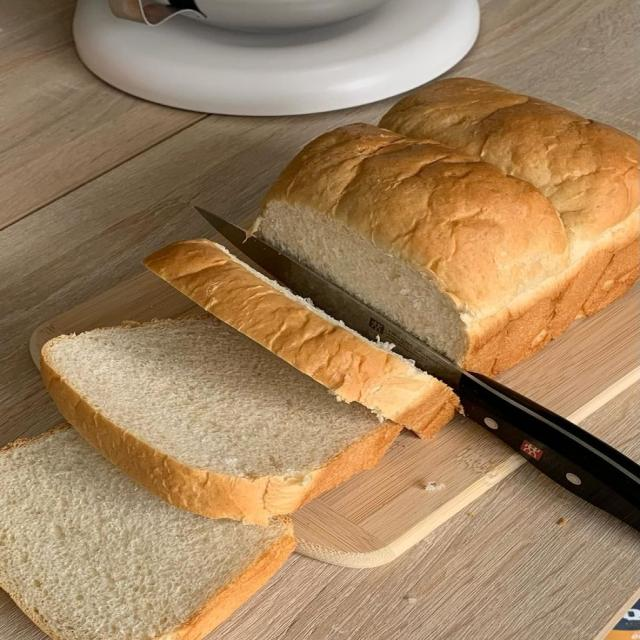bread: (251, 79, 639, 374)
sliced bread: (41, 317, 397, 524), (0, 426, 294, 639), (143, 239, 458, 437)
